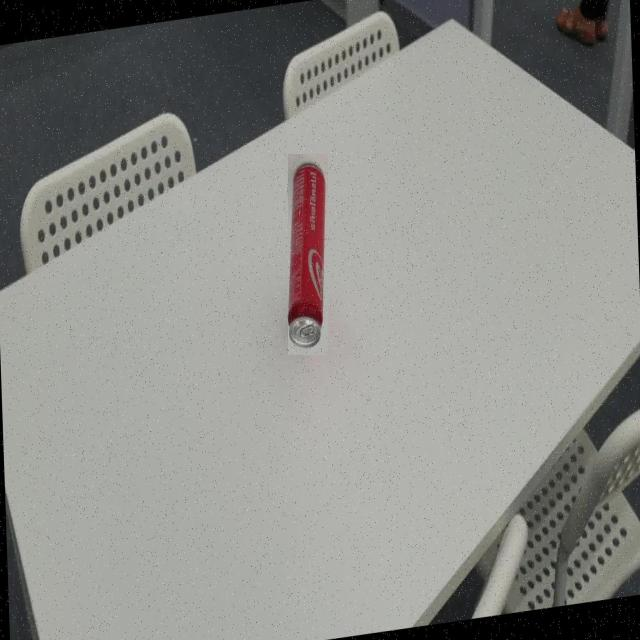coca-cola: (288, 154, 328, 355)
